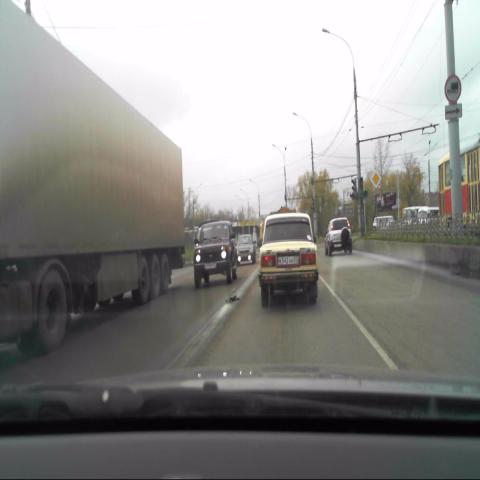2_1: (372, 170, 382, 188)
3_4_1: (444, 75, 460, 104)
8_3_1: (445, 106, 461, 120)
